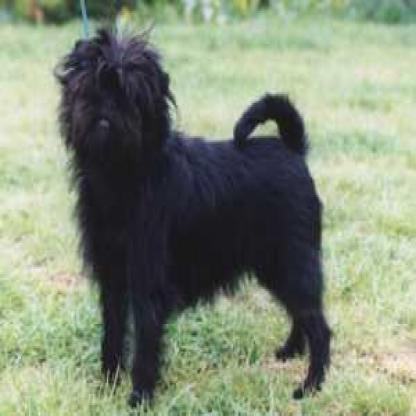affenpinscher: (52, 15, 333, 407)
